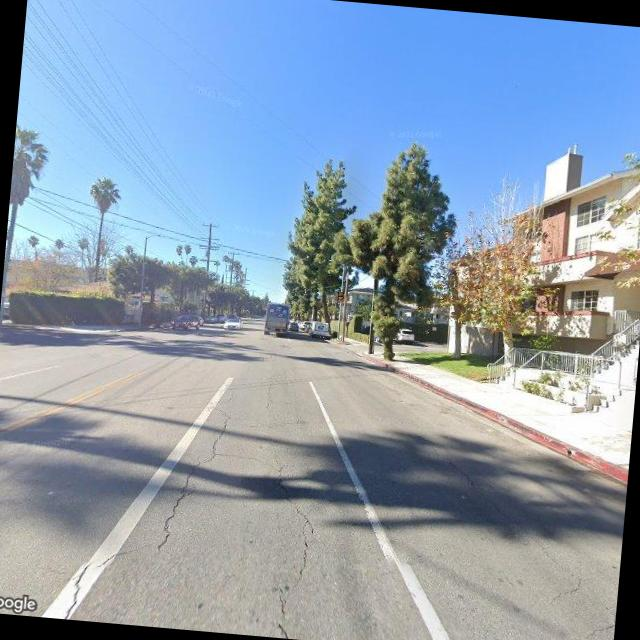pothole: (63, 398, 224, 630), (434, 452, 600, 594), (260, 452, 314, 638)
